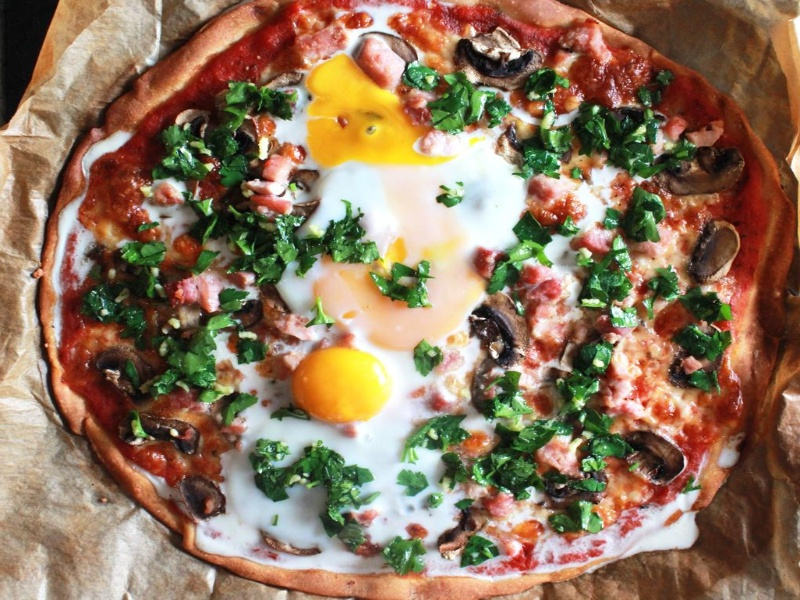oeuf: (298, 57, 454, 200), (324, 222, 485, 345), (277, 343, 407, 440)
